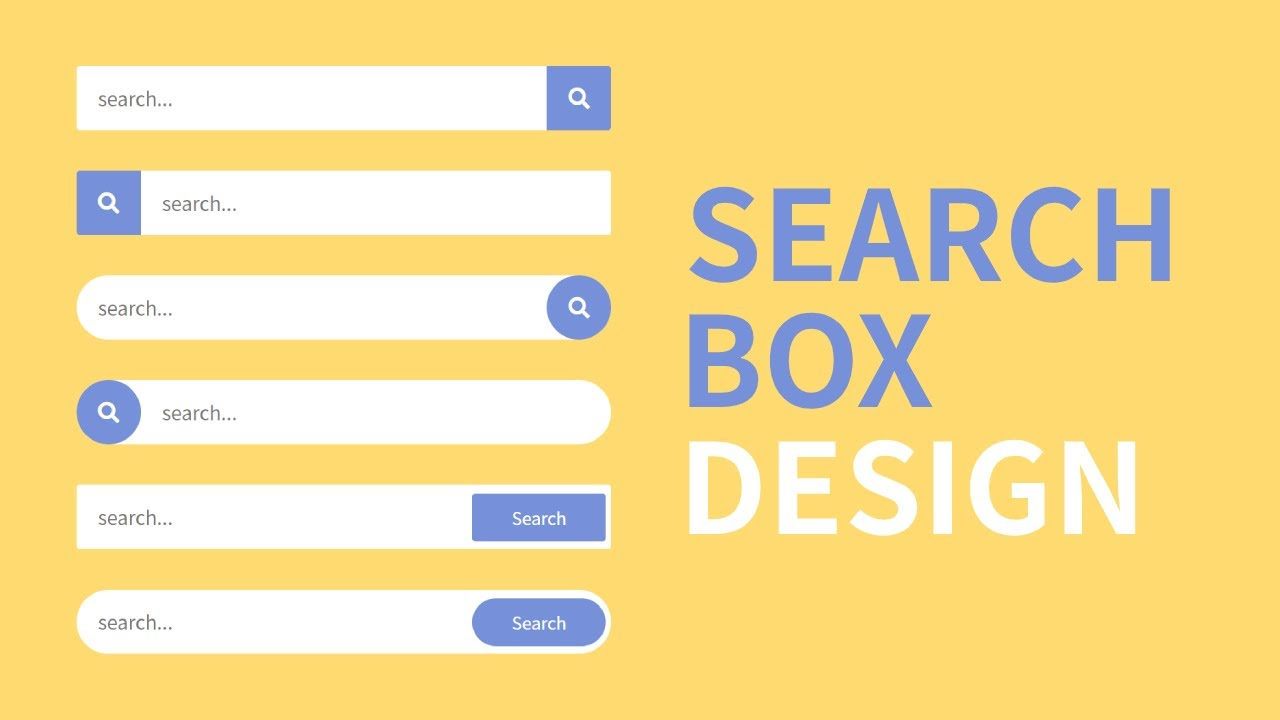search_box: (74, 170, 613, 237), (76, 66, 616, 132), (76, 484, 613, 550), (79, 379, 610, 444), (74, 591, 611, 654), (77, 277, 611, 338)
